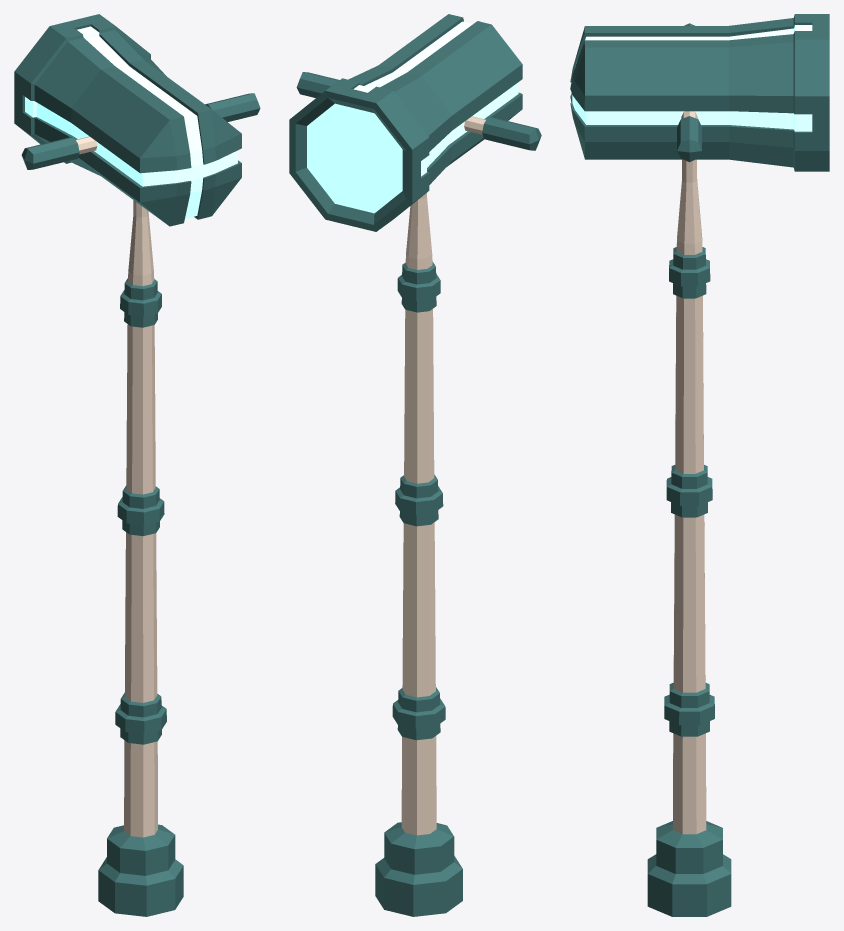
The model's file is Spotlight_Aridite.fbx.
The picture shows the model from 3 angles, left to right: view 1: azimuth 30°, elevation 25°; view 2: azimuth 150°, elevation 25°; view 3: azimuth 270°, elevation 25°; orthographic projection. The views are drawn at different scales.
Visible parts, largest first — view 1: AriditeSpotLight_LOD0, AriditeSpotlight_Stand_LOD0; view 2: AriditeSpotLight_LOD0, AriditeSpotlight_Stand_LOD0; view 3: AriditeSpotLight_LOD0, AriditeSpotlight_Stand_LOD0.
Part boxes in pixels (x1=…): AriditeSpotLight_LOD0: x1=14, y1=14, x2=260, y2=226; AriditeSpotlight_Stand_LOD0: x1=98, y1=200, x2=183, y2=916; AriditeSpotLight_LOD0: x1=289, y1=14, x2=541, y2=231; AriditeSpotlight_Stand_LOD0: x1=375, y1=193, x2=462, y2=916; AriditeSpotLight_LOD0: x1=570, y1=14, x2=829, y2=171; AriditeSpotlight_Stand_LOD0: x1=647, y1=159, x2=731, y2=916.
Size of what is drawn, in the model's own units: 0.391 by 1.33 by 0.3586.
